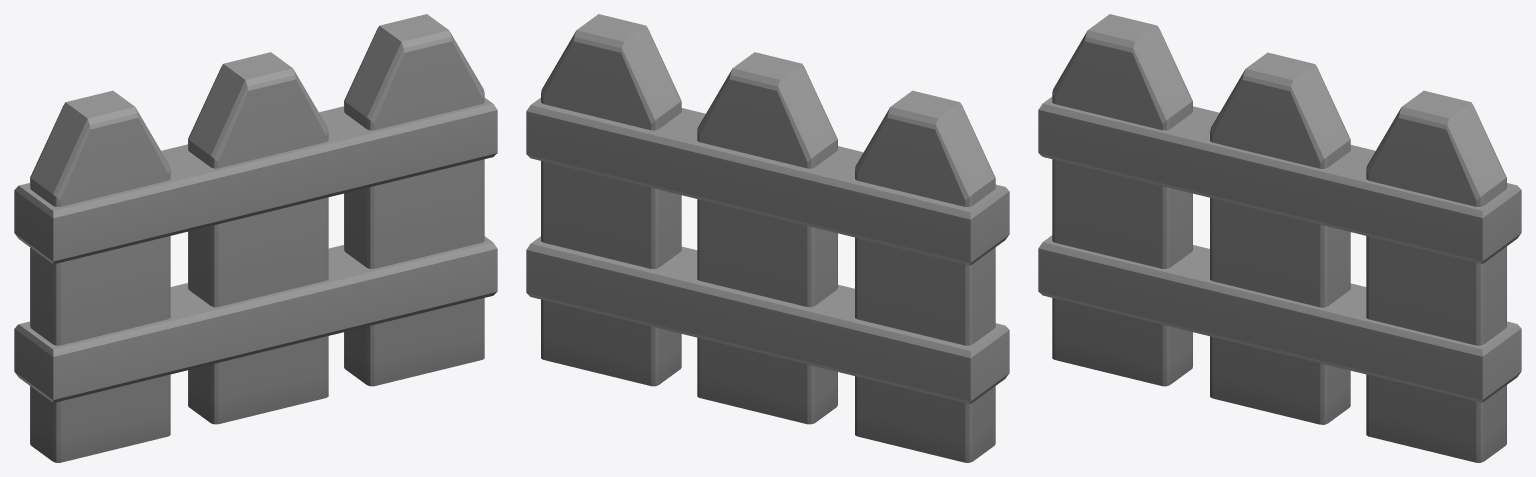
The model's file is fence__geo.fbx.
The picture shows the model from 3 angles, left to right: view 1: azimuth 30°, elevation 25°; view 2: azimuth 150°, elevation 25°; view 3: azimuth 330°, elevation 25°; orthographic projection.
Parts seen in each view (by area): view 1: Fence; view 2: Fence; view 3: Fence.
Boxes of the visible parts, x1,y1,x2,y2 form: Fence: (14, 14, 497, 462); Fence: (526, 14, 1009, 462); Fence: (1038, 14, 1521, 462).
Size of the model in its own units: 0.934 by 0.6726 by 0.1411.
